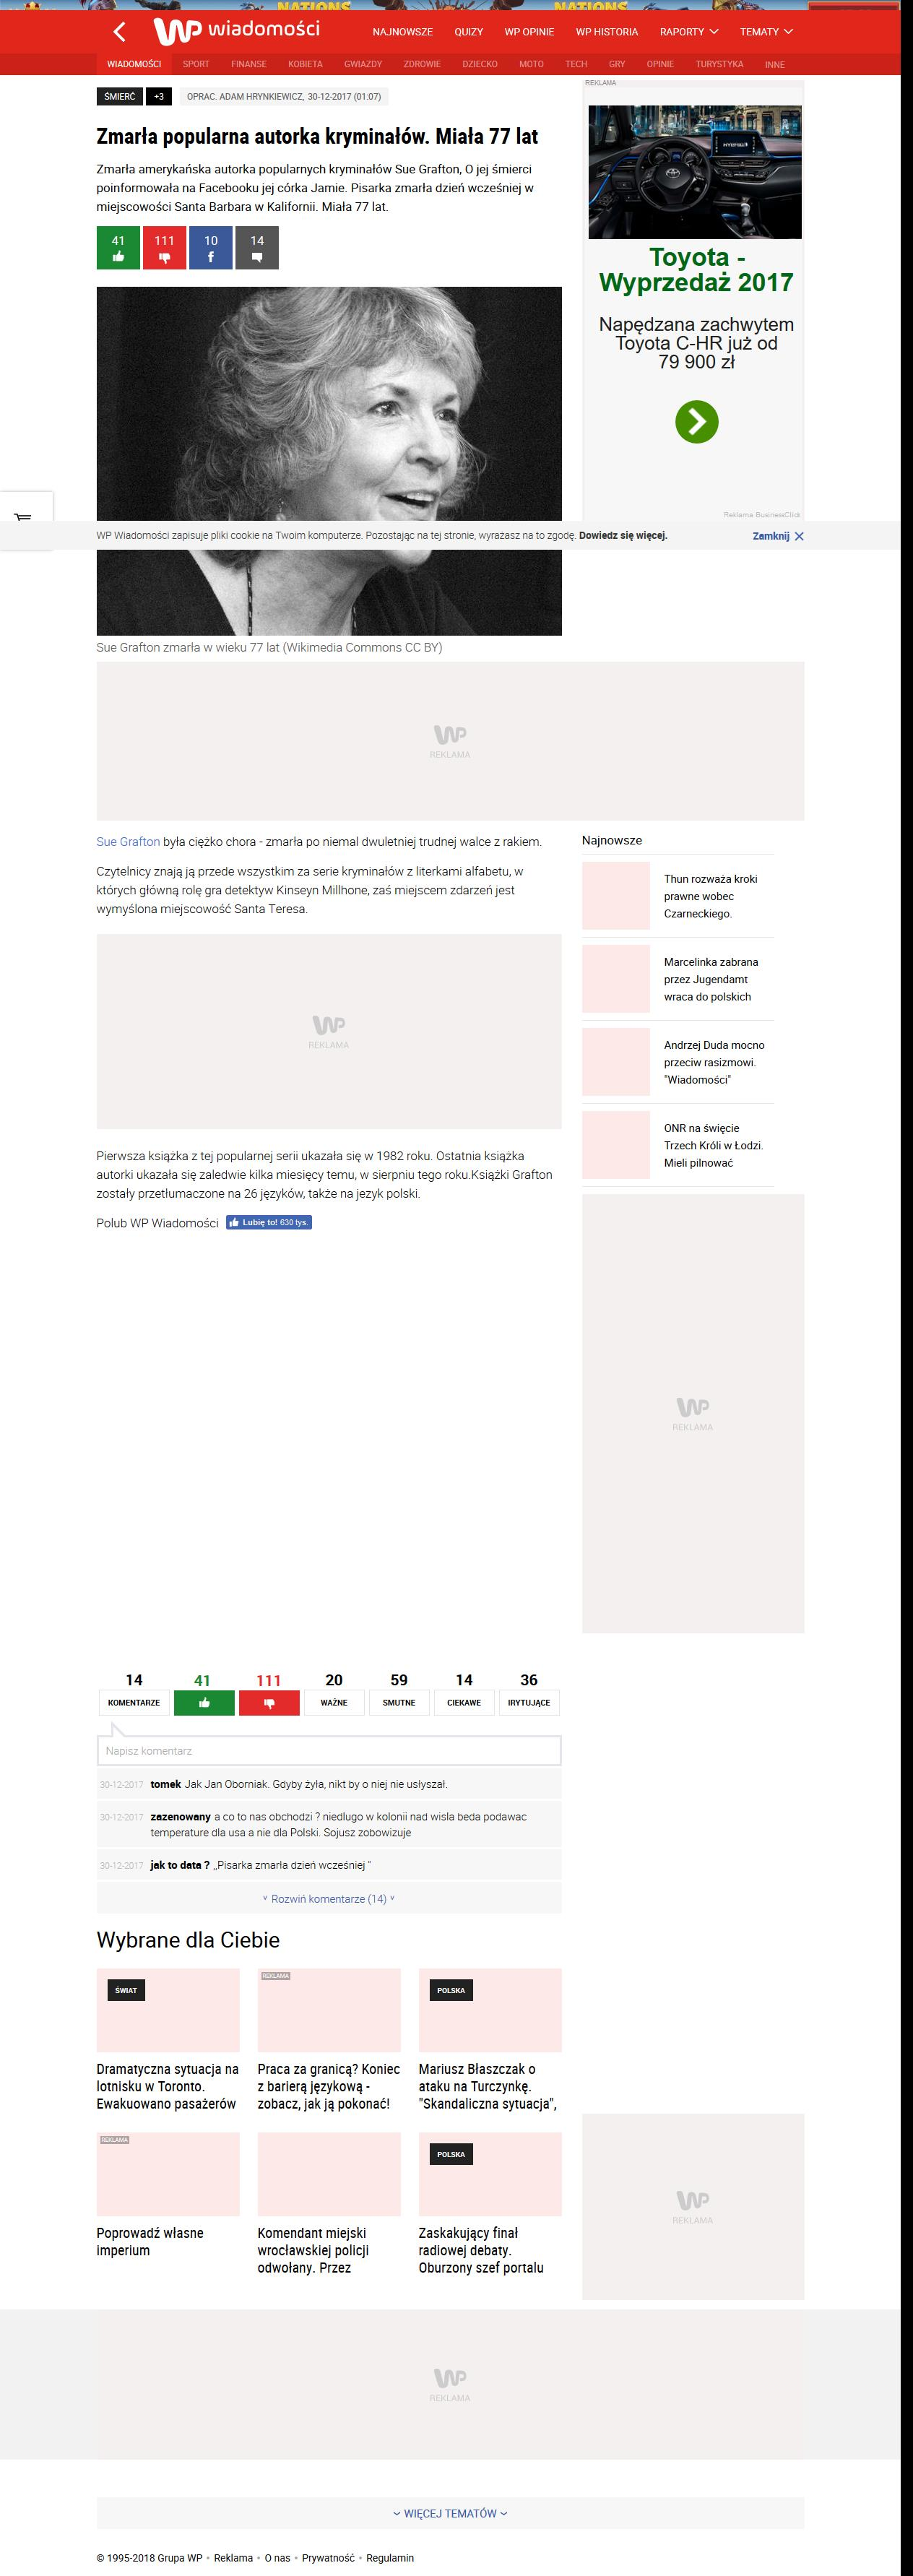title: (97, 126, 539, 148)
